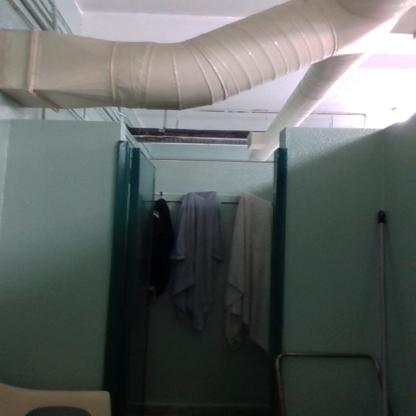open: (110, 117, 306, 415)
